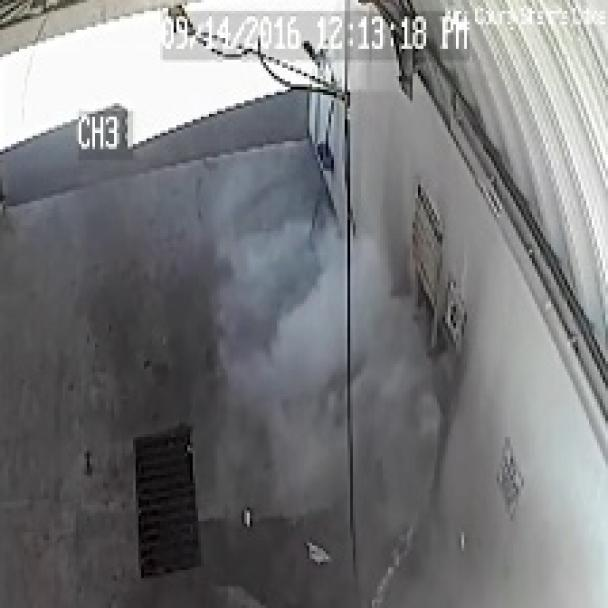smoke: (208, 166, 440, 511)
